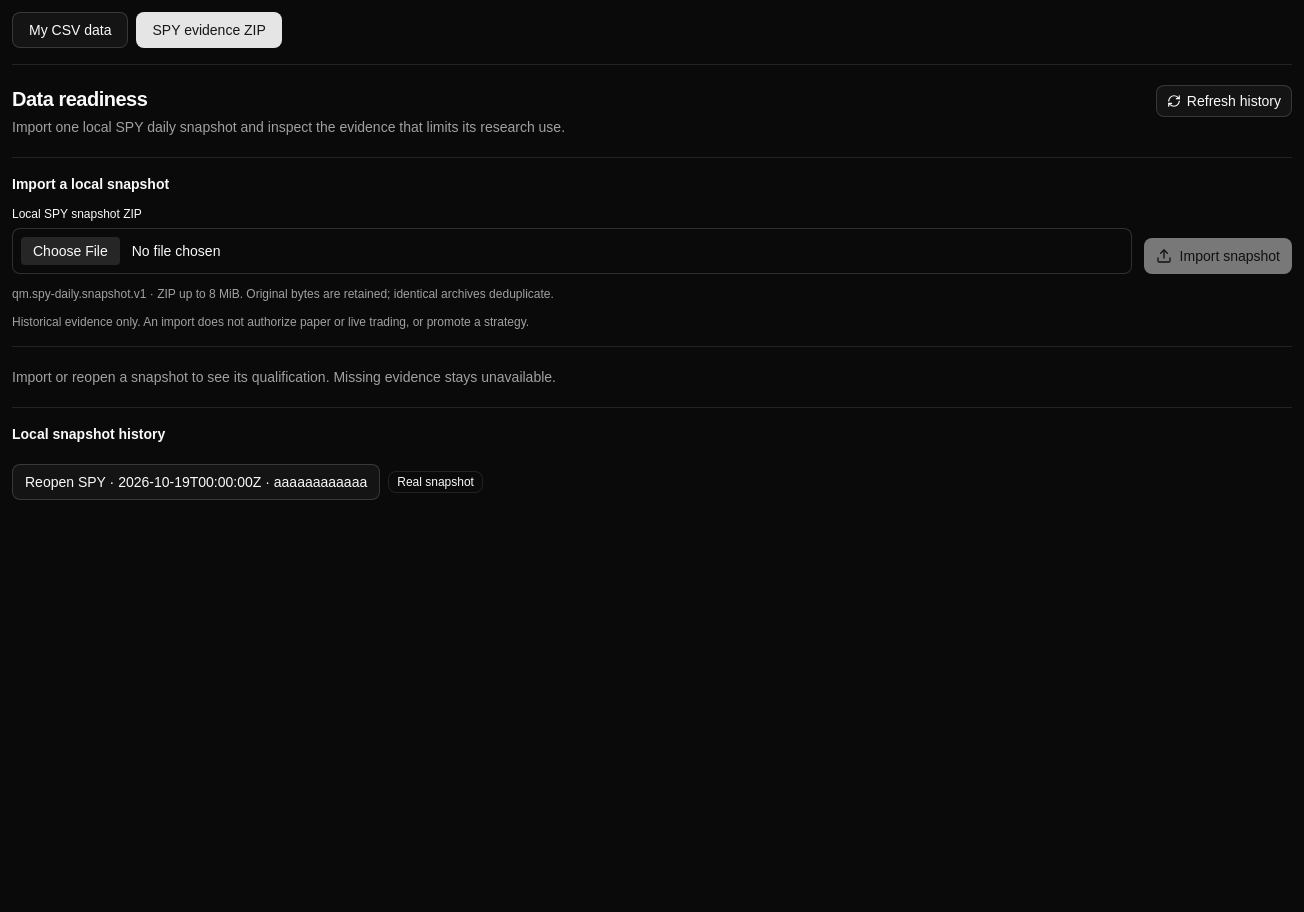
Test case: reopens stored history through GET and uses the current recency overlay
Click the button "Reopen SPY · 2026-10-19T00:00:00Z · aaaaaaaaaaaa" at (196, 482), box left=12, top=464, right=380, bottom=500
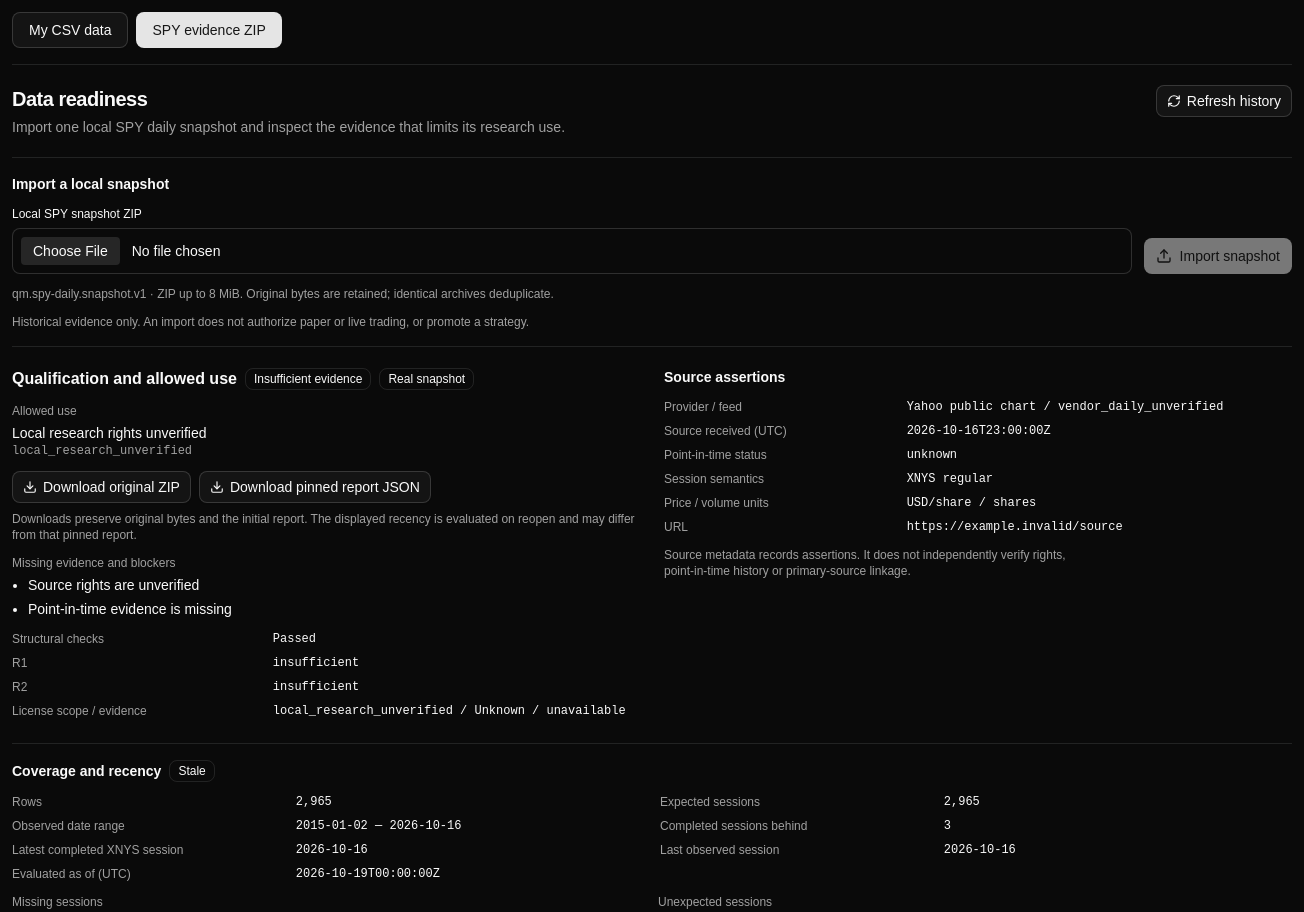
Result: the text "Stale" is shown at left=169, top=760, right=215, bottom=782
Result: the text "3" is shown at left=944, top=819, right=951, bottom=833
